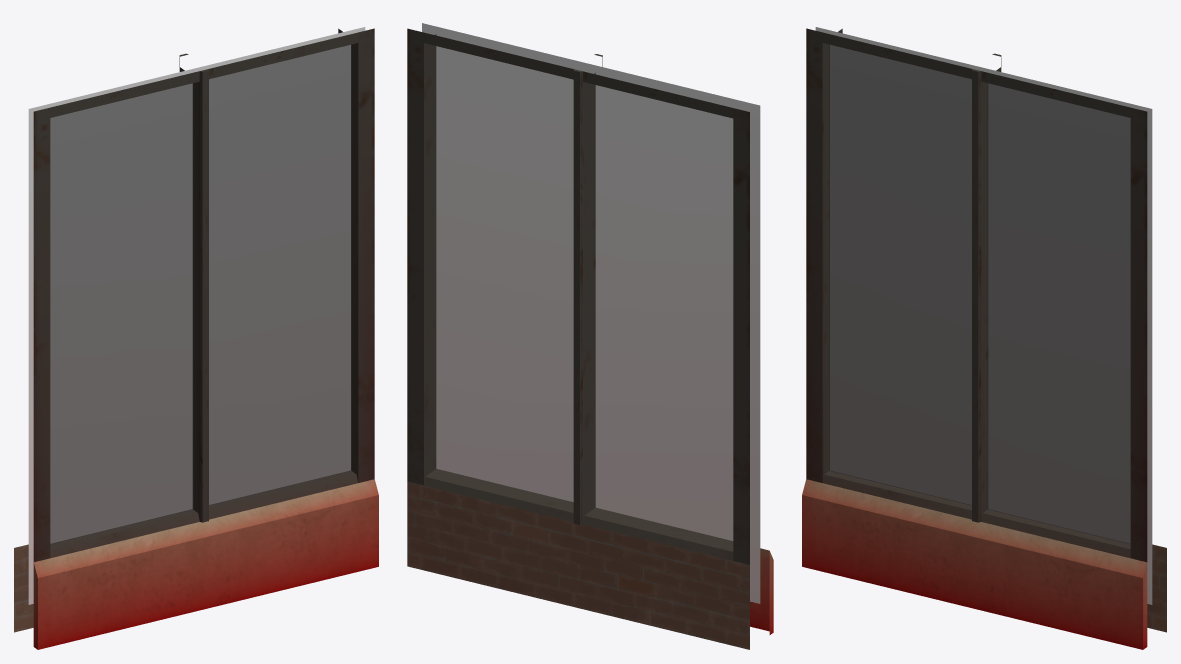
Rendered from metal_firstfloor_window.glb.
3 views of the same model, side by side, from view 1: azimuth 30°, elevation 25°; view 2: azimuth 150°, elevation 25°; view 3: azimuth 330°, elevation 25° (orthographic).
Parts seen in each view (by area): view 1: Metal_FirstFloor_Window; view 2: Metal_FirstFloor_Window; view 3: Metal_FirstFloor_Window.
Boxes of the visible parts, x1=… form: Metal_FirstFloor_Window: x1=14, y1=27, x2=378, y2=649; Metal_FirstFloor_Window: x1=407, y1=23, x2=773, y2=649; Metal_FirstFloor_Window: x1=802, y1=27, x2=1166, y2=649.
Bounding box in the file's own units: 2 × 3 × 0.2588.
Materials: 5 (3 with a texture image).
